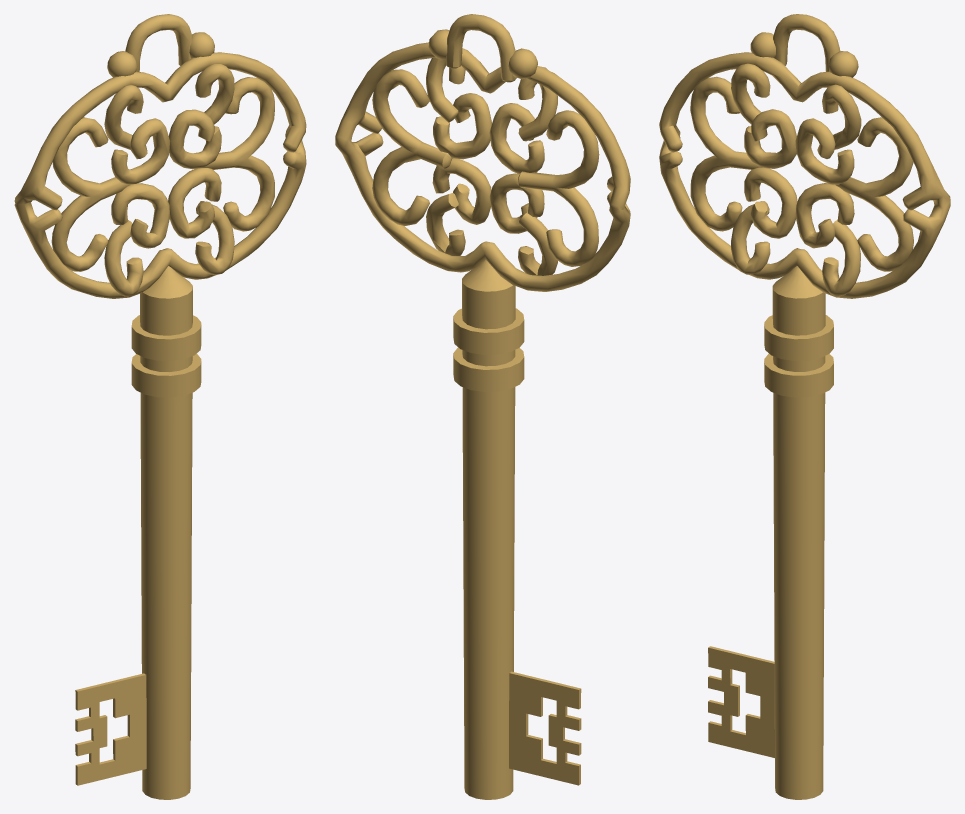
Rendered from Llave.fbx.
3 renders of one model, left to right at view 1: azimuth 30°, elevation 25°; view 2: azimuth 150°, elevation 25°; view 3: azimuth 330°, elevation 25°, orthographic.
Visible parts, largest first — view 1: Cylinder, Cube.001, Cube.002, Cube.006, Cube.003, Plane, Cylinder.002, Cylinder.001, Cube.005, Sphere; view 2: Cylinder, Cube.001, Cube.006, Cube.002, Plane, Cube.003, Cylinder.002, Cylinder.001, Cube.005, Sphere; view 3: Cylinder, Cube.001, Cube.002, Cube.006, Cube.003, Plane, Cylinder.002, Cylinder.001, Cube.005, Sphere.
Boxes of the visible parts, box(x1,y1,x2,y2) form: Cylinder: box(140, 266, 192, 799); Cube.001: box(14, 52, 306, 298); Cube.002: box(111, 109, 221, 248); Cube.006: box(51, 77, 274, 271); Cube.003: box(104, 64, 234, 296); Plane: box(75, 673, 146, 785); Cylinder.002: box(131, 315, 201, 360); Cylinder.001: box(131, 353, 201, 397); Cube.005: box(125, 14, 192, 71); Sphere: box(107, 32, 214, 77); Cylinder: box(462, 260, 515, 799); Cube.001: box(335, 42, 630, 291); Cube.006: box(372, 69, 599, 266); Cube.002: box(432, 93, 544, 233); Plane: box(509, 671, 581, 785); Cube.003: box(426, 58, 557, 275); Cylinder.002: box(453, 308, 524, 354); Cylinder.001: box(453, 347, 524, 391); Cube.005: box(446, 14, 516, 82); Sphere: box(428, 29, 537, 79); Cylinder: box(772, 266, 825, 799); Cube.001: box(659, 52, 950, 298); Cube.002: box(744, 109, 854, 248); Cube.006: box(690, 76, 913, 271); Cube.003: box(731, 63, 861, 296); Plane: box(708, 646, 774, 757); Cylinder.002: box(764, 315, 833, 360); Cylinder.001: box(764, 353, 833, 397); Cube.005: box(773, 14, 840, 71); Sphere: box(750, 32, 858, 77).
Size of the model in its own units: 7.78 by 20.11 by 1.67.
